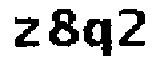2: (119, 6, 149, 49)
8: (48, 4, 79, 47)
q: (84, 16, 116, 59)
z: (9, 14, 41, 51)
